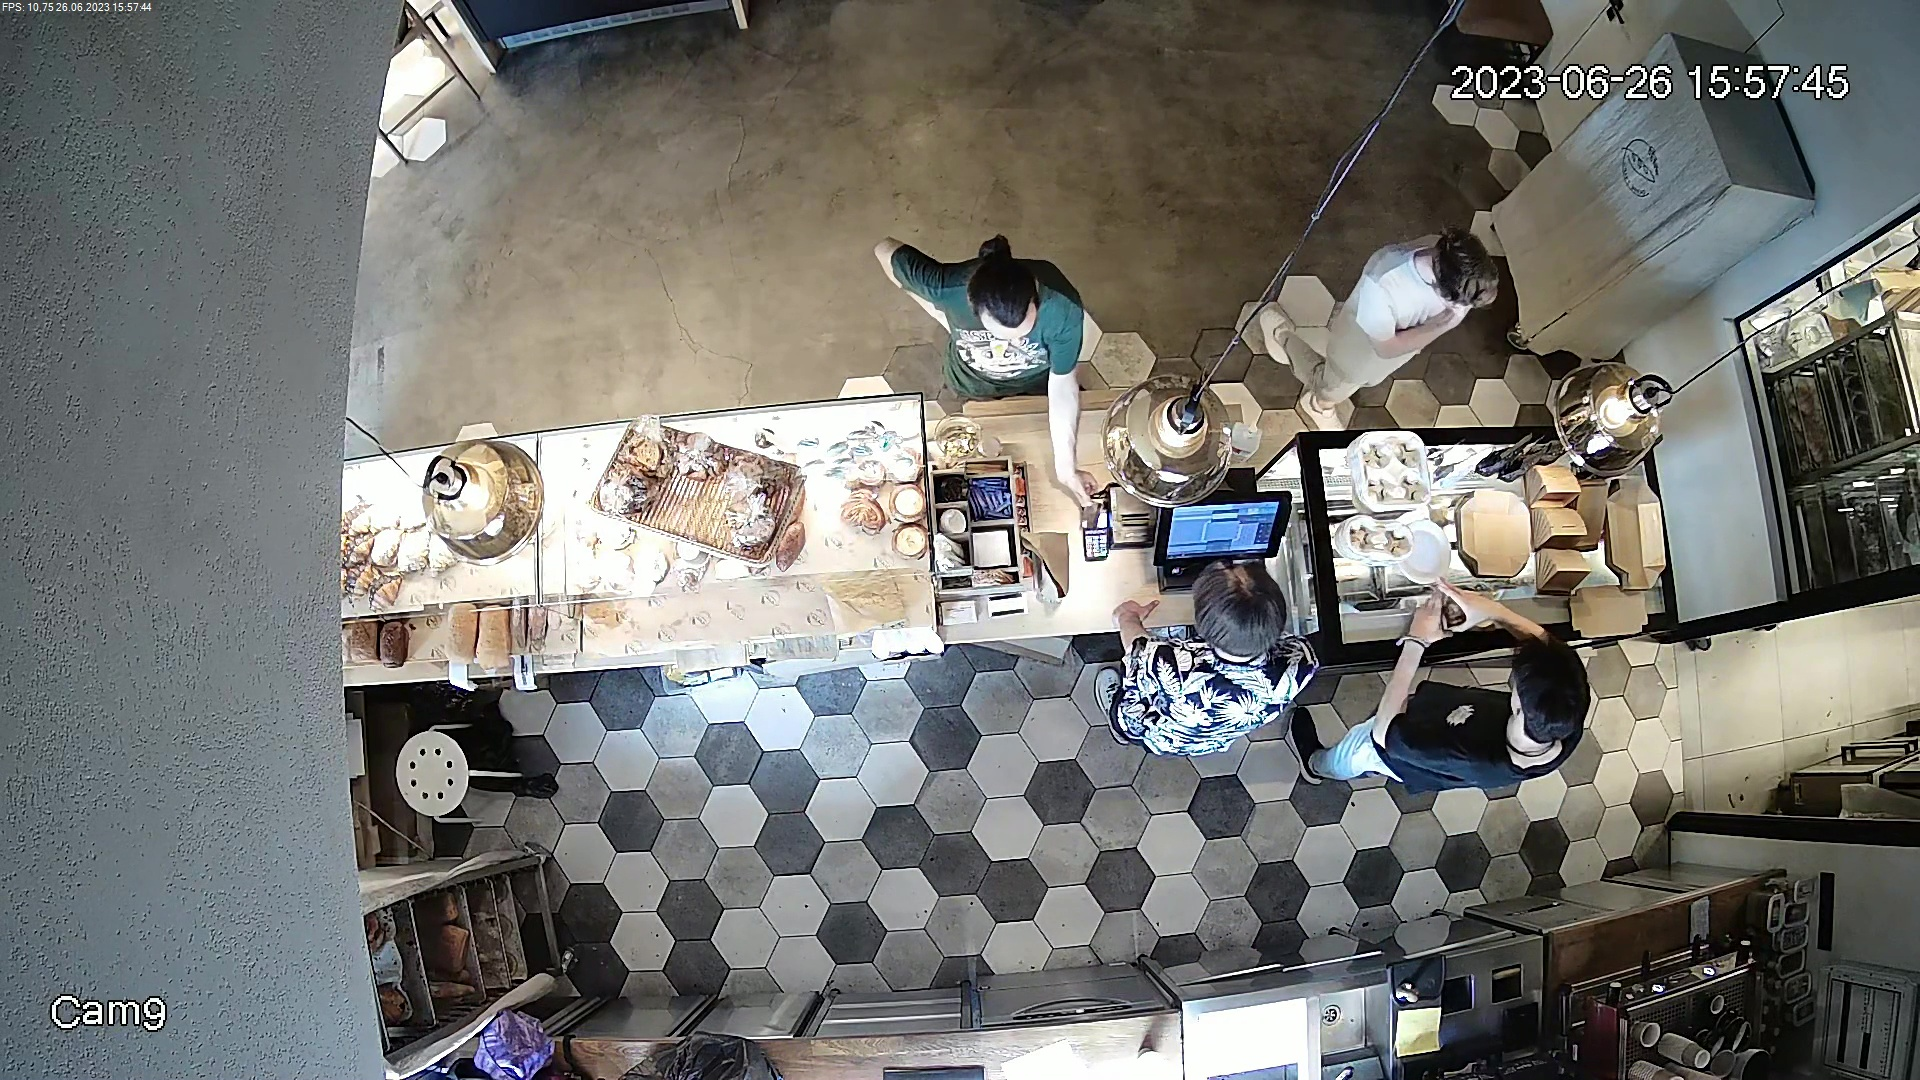pack: (1025, 527, 1073, 607)
terminal: (1067, 462, 1116, 562)
